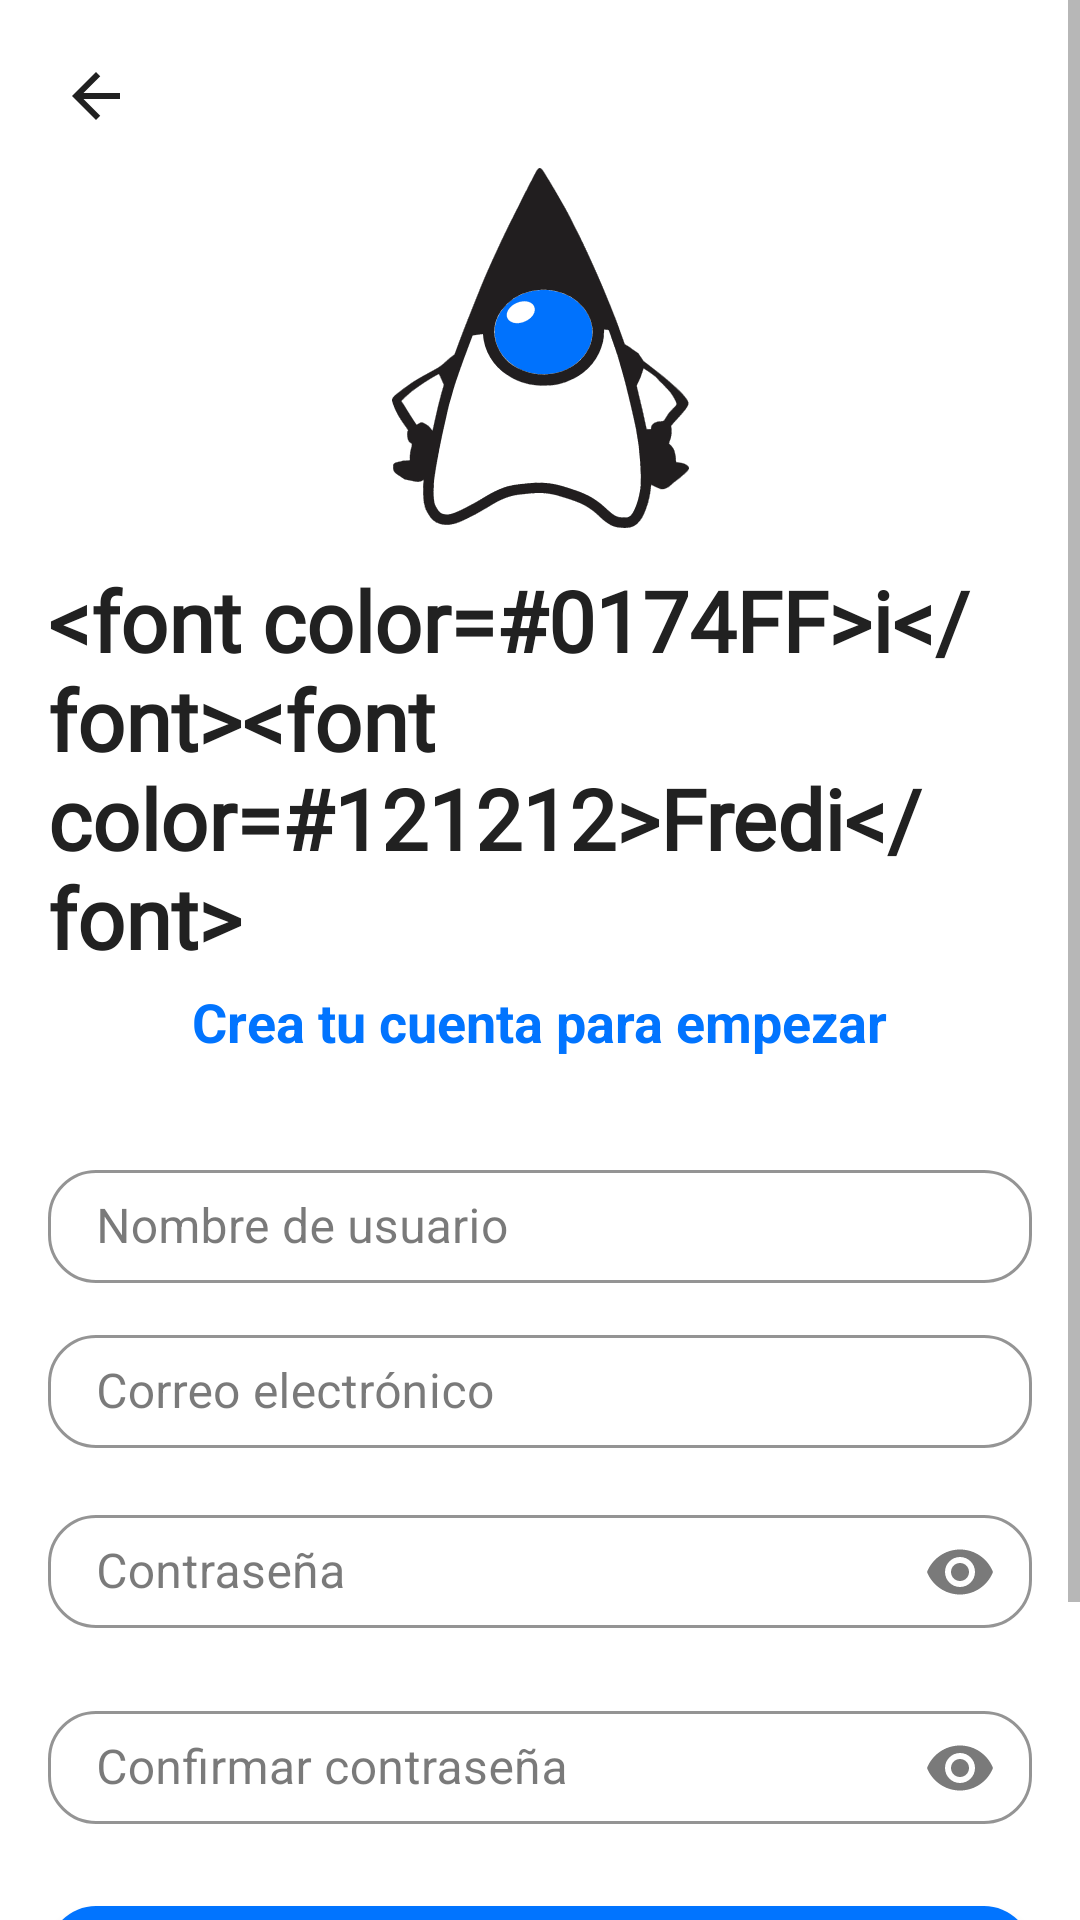

Where icons sit on this 1080w x 1920h app screen, as [x1=x1, y1=y1, x2=x2, y2=y2]:
Volver: [x1=72, y1=72, x2=120, y2=120]
